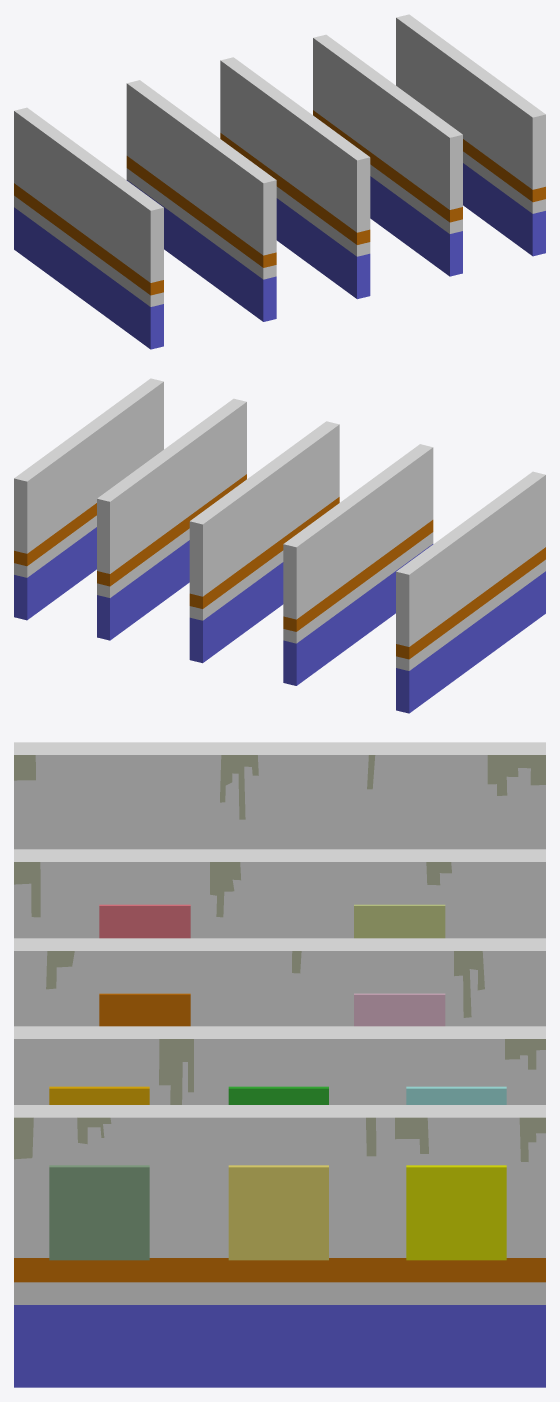
The model's file is Wall.fbx.
3 renders of one model, top to bottom at view 1: azimuth 30°, elevation 25°; view 2: azimuth 150°, elevation 25°; view 3: azimuth 270°, elevation 25°, orthographic. The views are drawn at different scales.
Visible parts, largest first — view 1: wall_simple, wall__variant, wall__variant1, wall_2_variant1, wall_2_variant2; view 2: wall_simple, wall__variant, wall__variant1, wall_2_variant1, wall_2_variant2; view 3: wall_2_variant2, wall_simple, wall__variant, wall__variant1, wall_2_variant1.
Part boxes in pixels (bbox=[...]): wall_simple: bbox=[14, 107, 163, 349]; wall__variant: bbox=[126, 80, 276, 321]; wall__variant1: bbox=[220, 57, 370, 299]; wall_2_variant1: bbox=[313, 34, 462, 276]; wall_2_variant2: bbox=[396, 14, 545, 256]; wall_simple: bbox=[396, 471, 545, 713]; wall__variant: bbox=[283, 444, 433, 685]; wall__variant1: bbox=[189, 421, 339, 663]; wall_2_variant1: bbox=[97, 398, 246, 640]; wall_2_variant2: bbox=[14, 378, 163, 620]; wall_2_variant2: bbox=[14, 1105, 545, 1387]; wall_simple: bbox=[14, 742, 545, 849]; wall__variant: bbox=[14, 849, 545, 938]; wall__variant1: bbox=[14, 938, 545, 1026]; wall_2_variant1: bbox=[14, 1026, 545, 1104].
Size of the model in its own units: 5.27 by 1.76 by 3.14.
